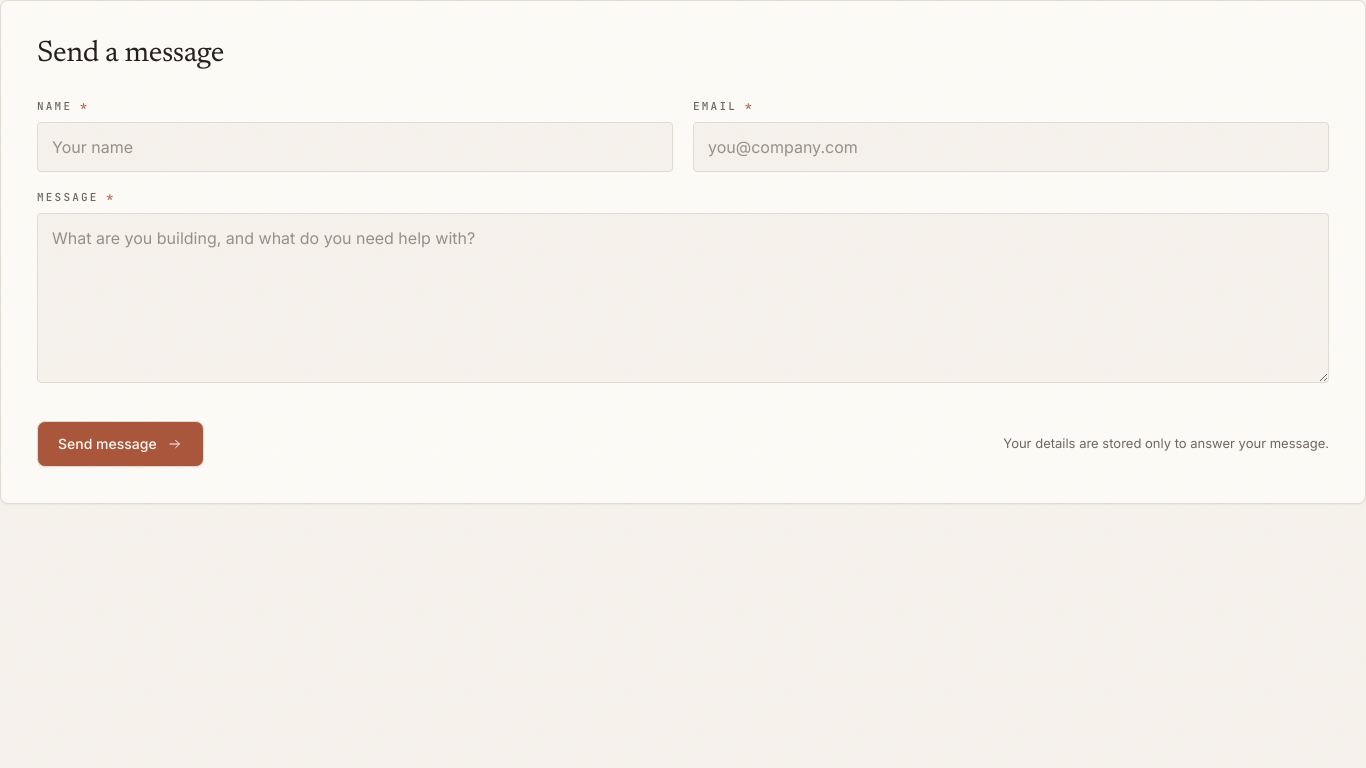
Test: <ContactForm /> › shows a format error for an invalid email without flagging it as empty
Type "Sara Ahmed" into the field labelled "Name *" at x=355, y=146, box [37,122,673,172]
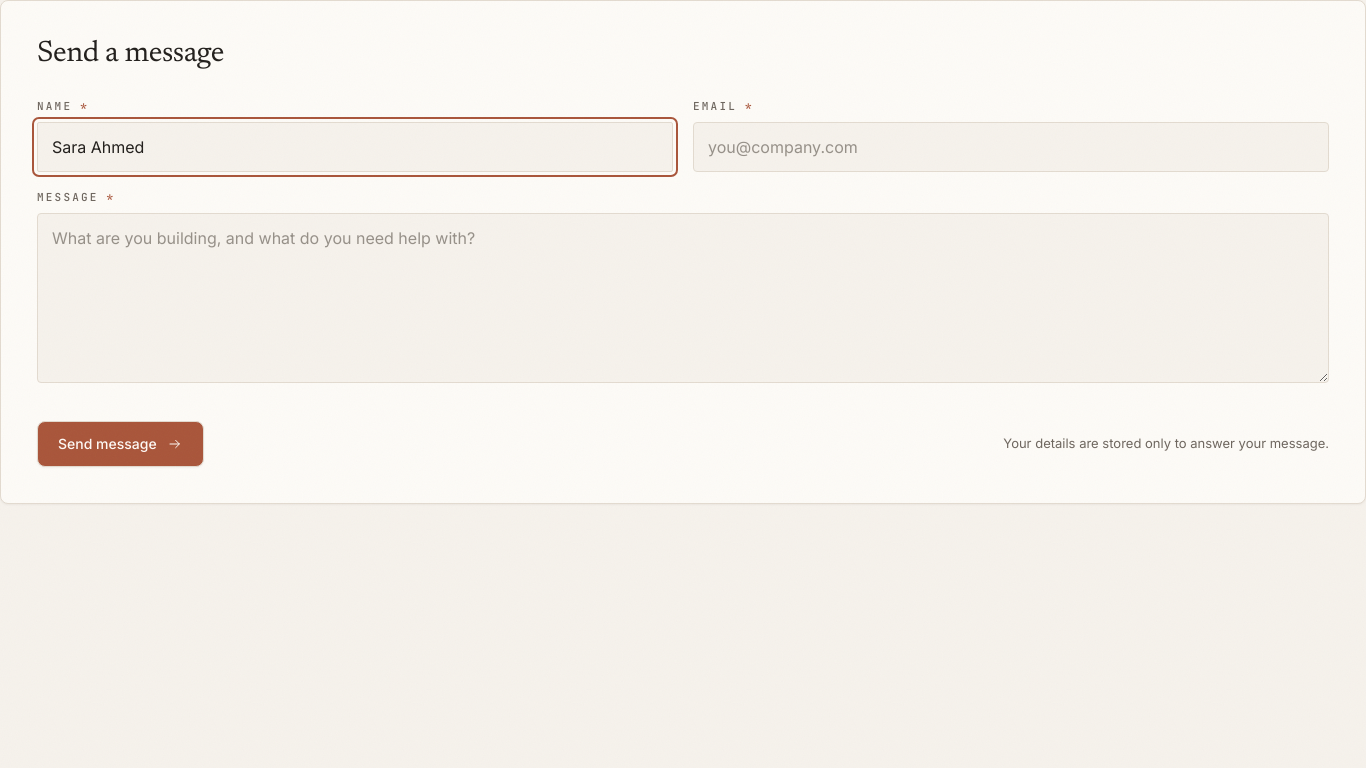
Type "not-an-email" into the field labelled "Email *" at x=1011, y=146, box [693,122,1329,172]
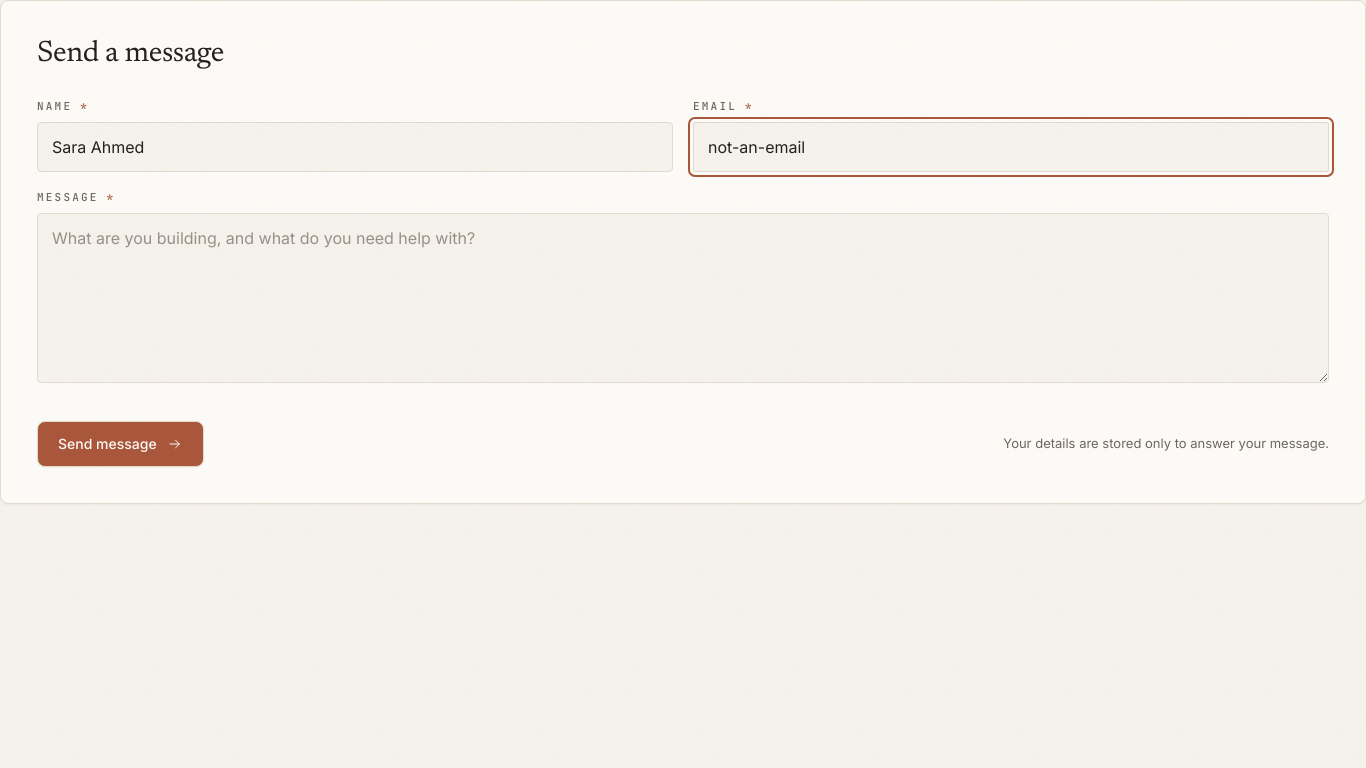
Type "Hello, I would like to talk about a full-stack project opportunity." into the text box labelled "Message *" at x=683, y=298, box [37,212,1329,382]
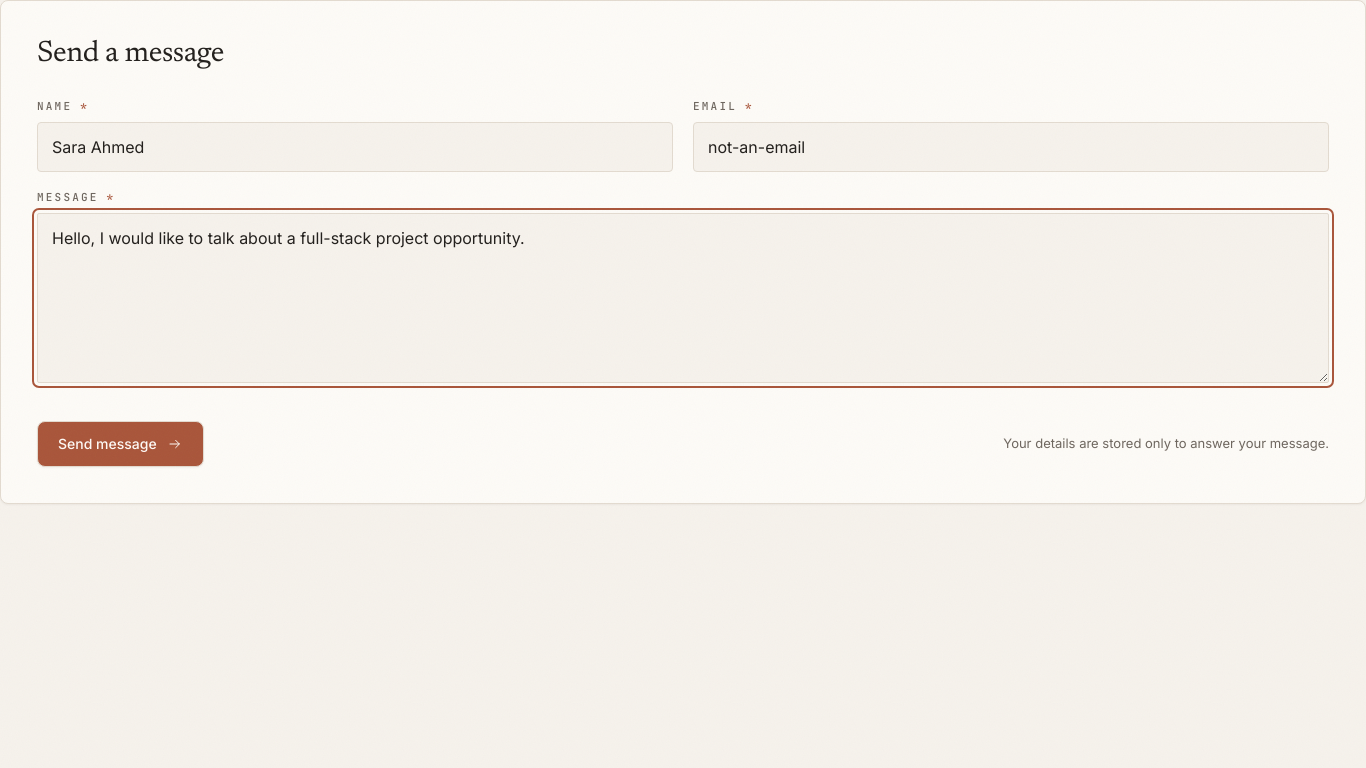
Click the button "Send message" at x=120, y=444, box [37,420,204,466]
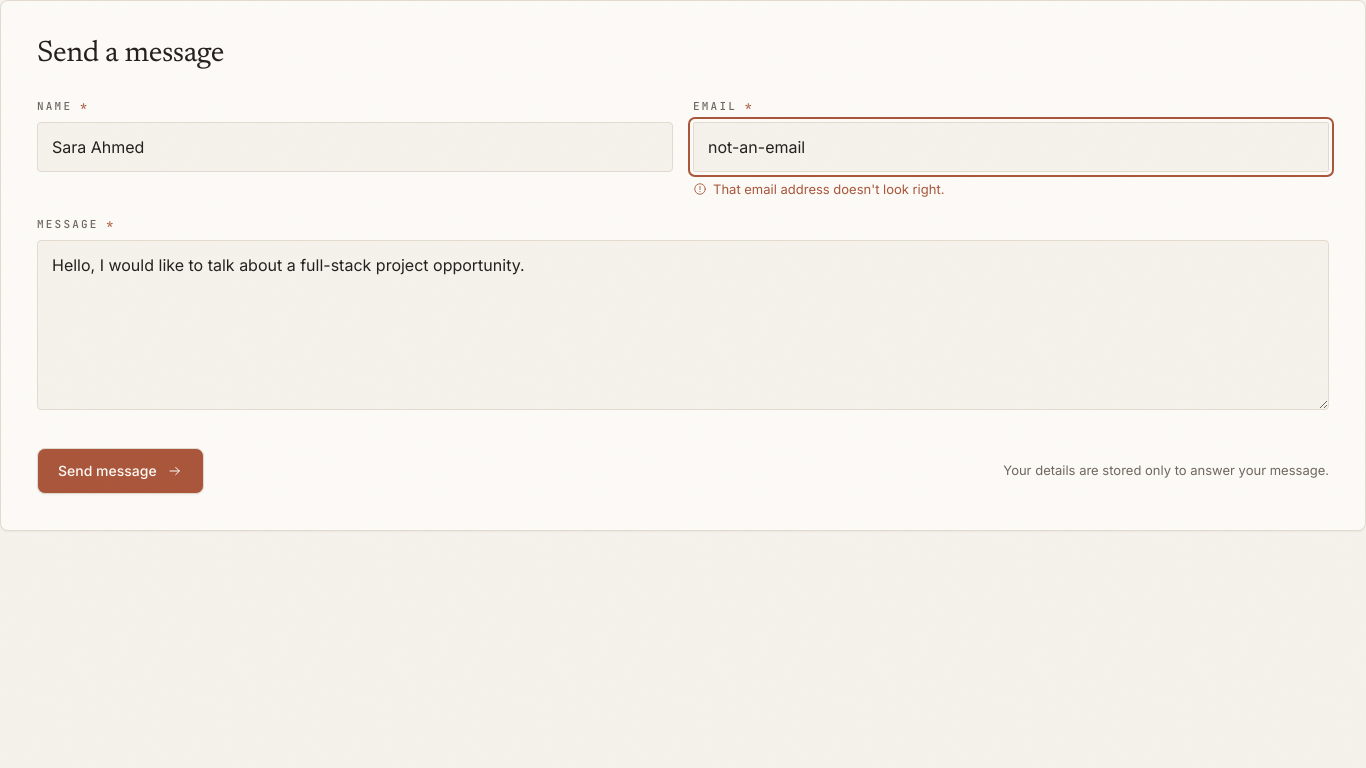
expect the text "That email address doesn't look right." is shown: met, box [693,180,944,196]
